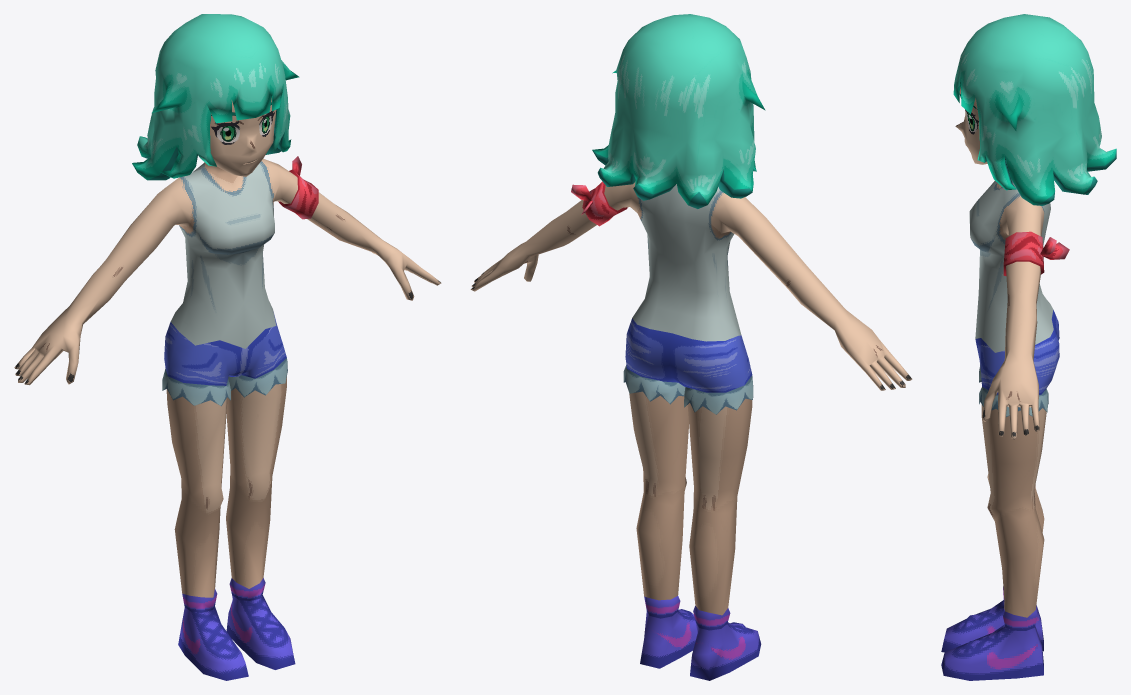
Rendered from handkerchief_lod1.glb.
3 renders of one model, left to right at view 1: azimuth 30°, elevation 25°; view 2: azimuth 150°, elevation 25°; view 3: azimuth 270°, elevation 25°, orthographic. The views are drawn at different scales.
Parts seen in each view (by area): view 1: handkerchief.002 triangulated lod1; view 2: handkerchief.002 triangulated lod1; view 3: handkerchief.002 triangulated lod1.
Part boxes in pixels (x1,y1,x2,y2): handkerchief.002 triangulated lod1: (14, 14, 441, 680); handkerchief.002 triangulated lod1: (470, 14, 912, 680); handkerchief.002 triangulated lod1: (941, 14, 1116, 680).
Size of the model in its own units: 1.37 by 1.96 by 0.4887.
Materials: 2 (2 with a texture image).
